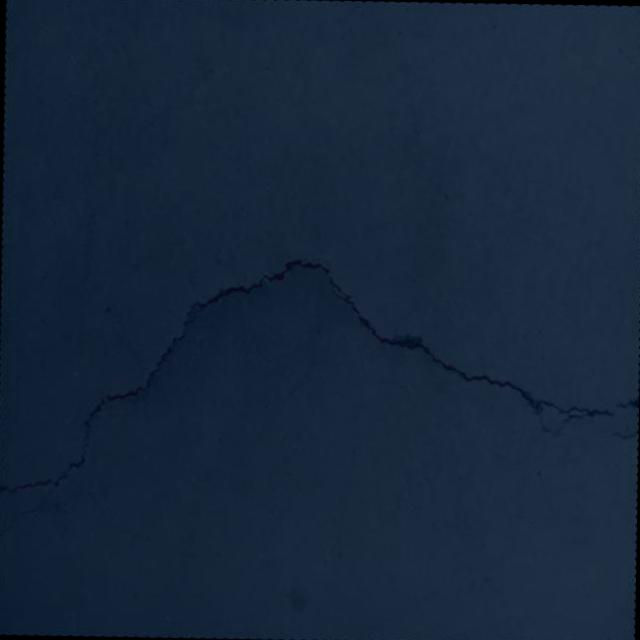crack: (0, 248, 640, 505), (0, 490, 50, 537), (601, 428, 638, 439)
